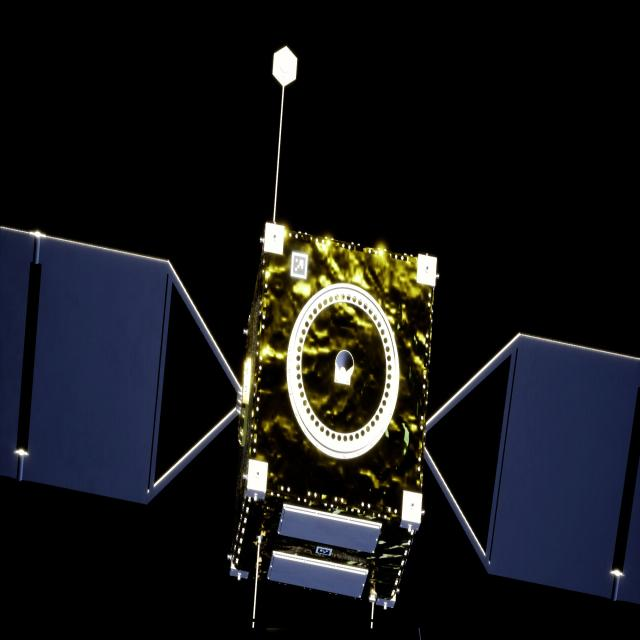medium_debris: (0, 223, 640, 624)
